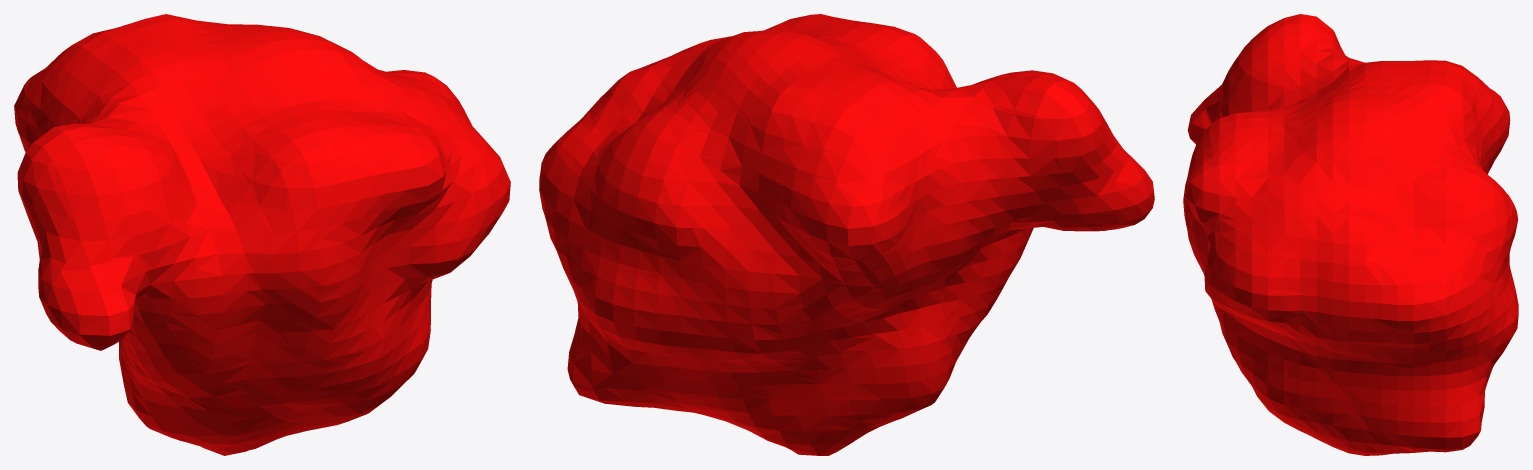
Rendered from Ras_related_protein_Rab_7a_Ras_coarse.dae.
3 renders of one model, left to right at view 1: azimuth 30°, elevation 25°; view 2: azimuth 150°, elevation 25°; view 3: azimuth 270°, elevation 25°, orthographic. The views are drawn at different scales.
Parts seen in each view (by area): view 1: Ras_related_protein_Rab_7a_Ras; view 2: Ras_related_protein_Rab_7a_Ras; view 3: Ras_related_protein_Rab_7a_Ras.
Boxes of the visible parts, left/top/right/bottom form: Ras_related_protein_Rab_7a_Ras: left=14, top=14, right=510, bottom=455; Ras_related_protein_Rab_7a_Ras: left=539, top=14, right=1154, bottom=455; Ras_related_protein_Rab_7a_Ras: left=1183, top=14, right=1518, bottom=455.
Size of the model in its own units: 56.81 by 43.75 by 39.31.
